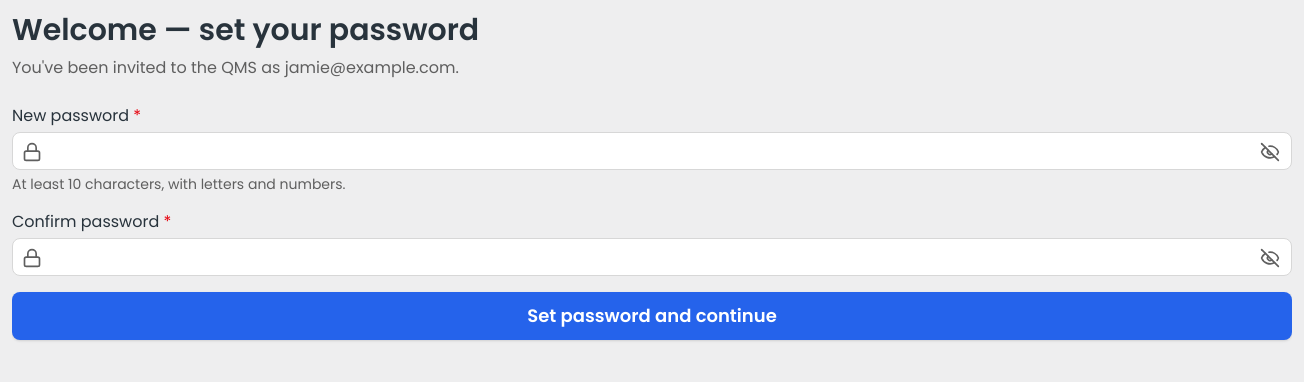
SetPassword › enforces the password rules and matching confirmation
Type "short1" into the password field labelled "New password *" at (652, 151), box [12,132,1292,170]
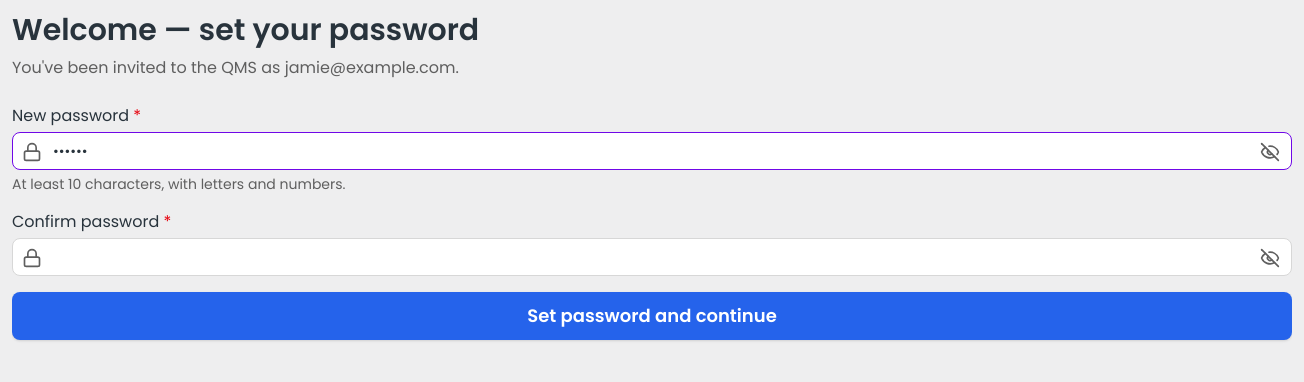
Type "different1" into the password field labelled "Confirm password *" at (652, 257), box [12,238,1292,276]
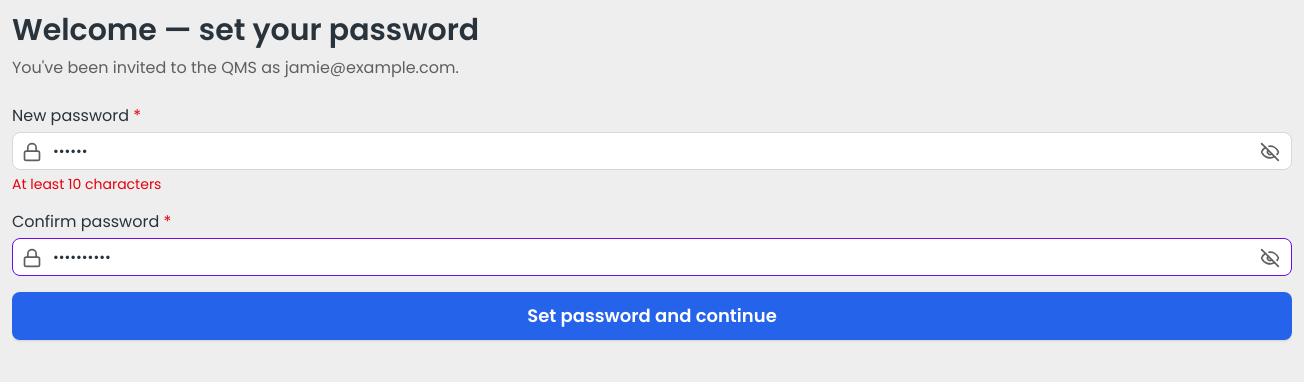
Click the button "Set password and continue" at (652, 316), box [12,292,1292,340]
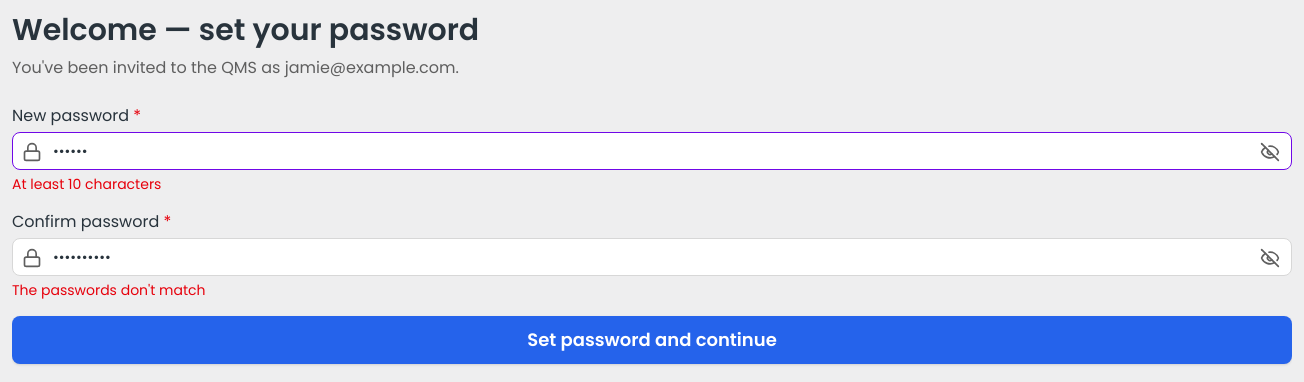
Expected: the text "At least 10 characters" is shown, [12,174,161,194]
Now the text "The passwords don't match" is shown, box [12,280,206,300]
